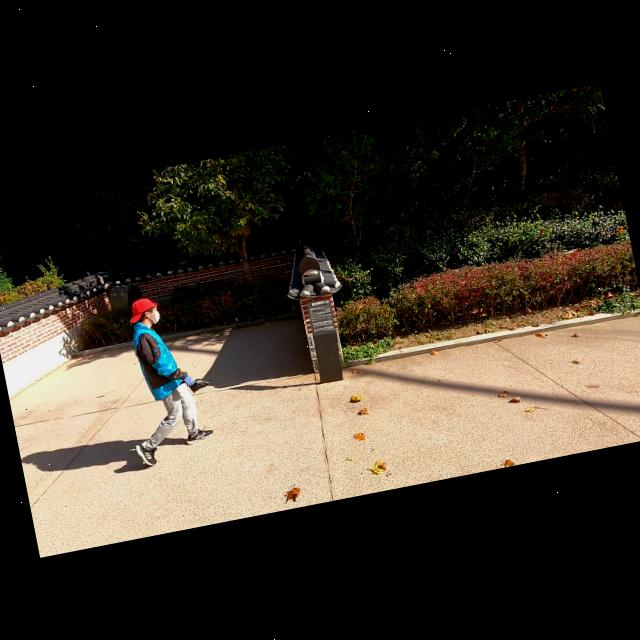trash: (106, 289, 218, 469), (188, 375, 212, 393)
